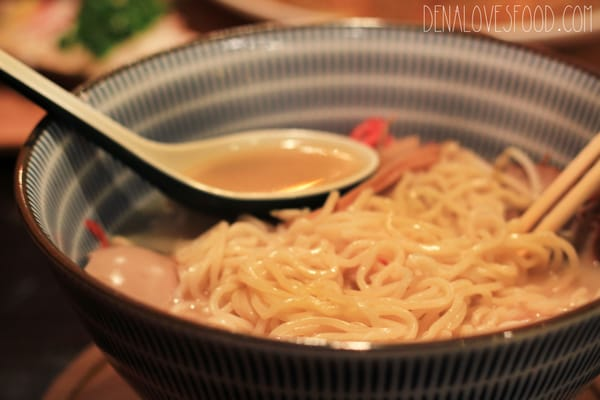sushi: (12, 112, 580, 394)
